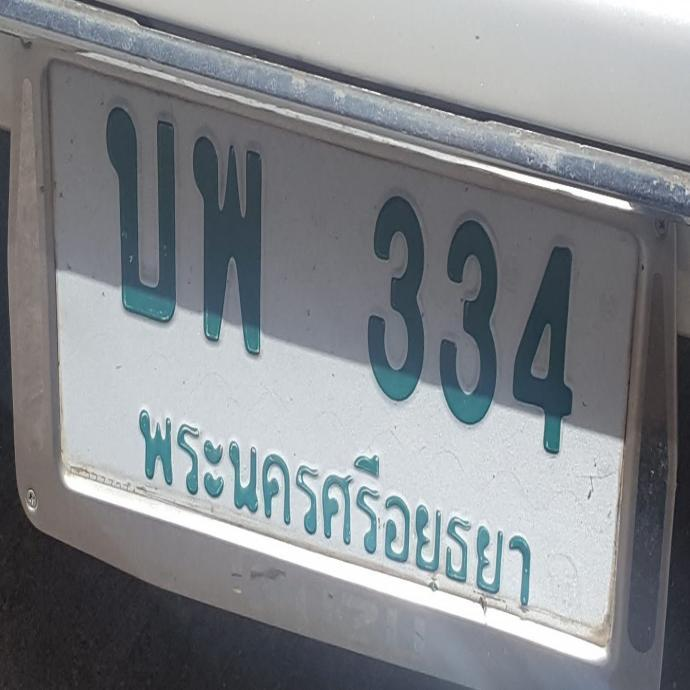3: (409, 197, 520, 432), (351, 185, 434, 407)
4: (477, 217, 598, 459)
A26: (72, 91, 199, 333)
A30: (157, 118, 286, 360)
AYA: (100, 370, 550, 632)
